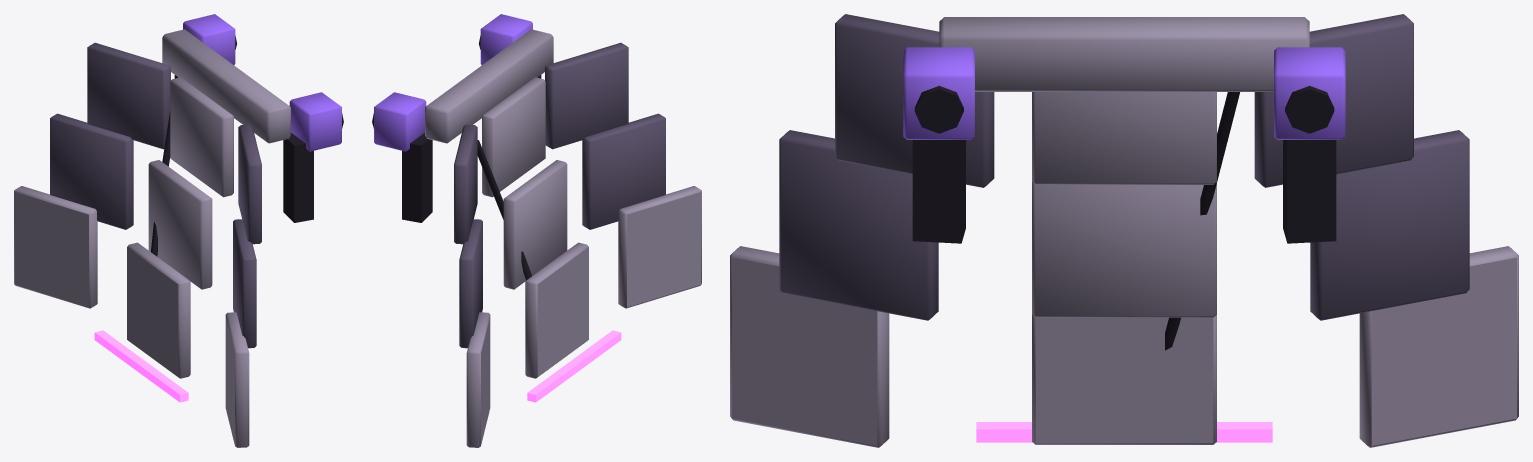
The model's file is asesino_capa.glb.
The picture shows the model from 3 angles, left to right: view 1: azimuth 30°, elevation 25°; view 2: azimuth 150°, elevation 25°; view 3: azimuth 270°, elevation 25°; orthographic projection. The views are drawn at different scales.
Parts seen in each view (by area): view 1: asesino_capa; view 2: asesino_capa; view 3: asesino_capa.
Part boxes in pixels (x1,y1,x2,y2): asesino_capa: (14,14,343,447); asesino_capa: (372,14,701,447); asesino_capa: (730,14,1518,447).
Bounding box in the file's own units: 0.2574 × 0.434 × 0.639.
